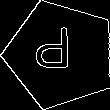P_S: (41, 29, 80, 80)
